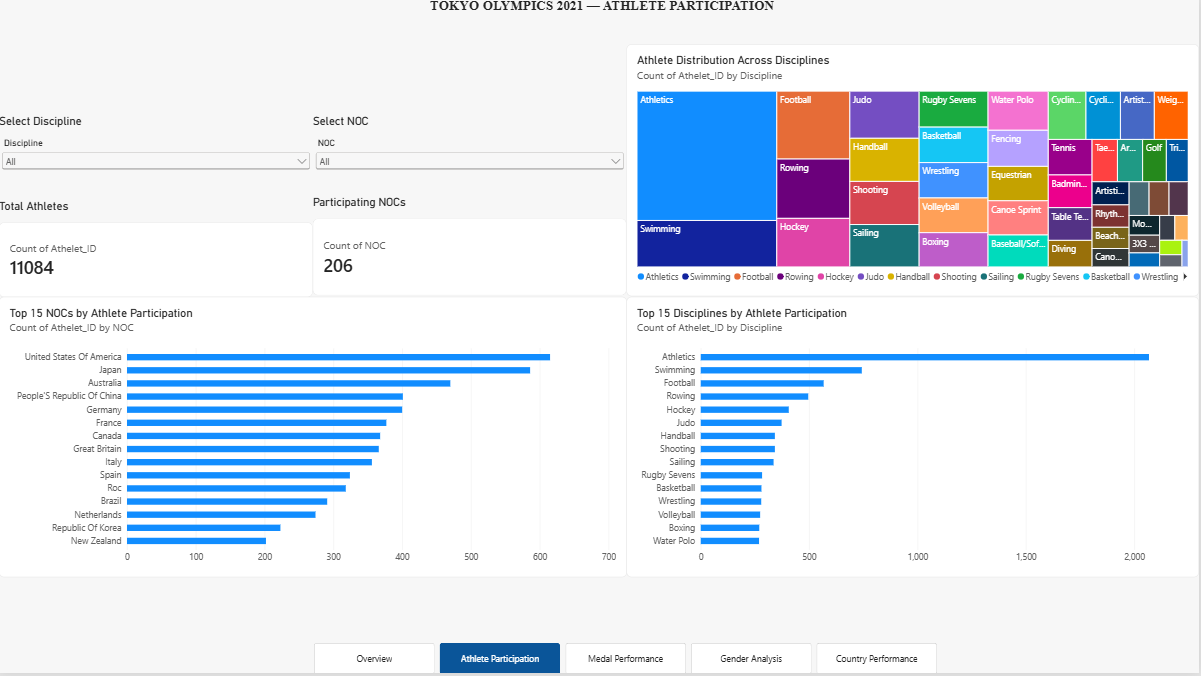

The dashboard page shown, as its layout file describes it:
{"tool":"powerbi","page":{"name":"Athlete Participation","canvas":[1920,1080],"ordinal":1},"visuals":[{"type":"textbox","box":[10.5,0,1909.9,38.4],"z":0},{"type":"cardVisual","title":"Total Athletes","fields":{"Data":["CountNonNull(athletes_cleaned.Athelet_ID)"]},"box":[0,321.1,502.3,157],"z":1},{"type":"cardVisual","title":"Participating NOCs","fields":{"Data":["Count(athletes_cleaned.NOC)"]},"box":[502.2,317,502.3,160.5],"z":2},{"type":"clusteredBarChart","title":"Top 15 NOCs by Athlete Participation","fields":{"Category":["athletes_cleaned.NOC"],"Y":["CountNonNull(athletes_cleaned.Athelet_ID)"]},"box":[0,477.5,1004.5,448.7],"z":3},{"type":"clusteredBarChart","title":"Top 15 Disciplines by Athlete Participation","fields":{"Category":["athletes_cleaned.Discipline"],"Y":["CountNonNull(athletes_cleaned.Athelet_ID)"]},"box":[1004.5,477.5,916,448.7],"z":4},{"type":"slicer","title":"Select Discipline","fields":{"Values":["athletes_cleaned.Discipline"]},"box":[0,186.6,502.3,120.3],"z":5},{"type":"treemap","title":"Athlete Distribution Across Disciplines","fields":{"Group":["athletes_cleaned.Discipline"],"Values":["CountNonNull(athletes_cleaned.Athelet_ID)"]},"box":[1004.5,74.1,916,403.4],"z":6},{"type":"slicer","title":"Select NOC","fields":{"Values":["athletes_cleaned.NOC"]},"box":[502.3,186.6,502.3,104.7],"z":7},{"type":"pageNavigator","box":[504.3,1031.2,1000,50],"z":8}]}

Visuals, with their boxes in screenshot pixels (x1, y1, x2, y2), scaled from the page's 1920x1080 canvas onto the 1201x676 screenshot:
textbox: (7, 0, 1200, 24)
"Total Athletes" cardVisual: (0, 201, 314, 299)
"Participating NOCs" cardVisual: (314, 198, 628, 299)
"Top 15 NOCs by Athlete Participation" clusteredBarChart: (0, 299, 628, 580)
"Top 15 Disciplines by Athlete Participation" clusteredBarChart: (628, 299, 1200, 580)
"Select Discipline" slicer: (0, 117, 314, 192)
"Athlete Distribution Across Disciplines" treemap: (628, 46, 1200, 299)
"Select NOC" slicer: (314, 117, 628, 182)
pageNavigator: (315, 645, 941, 675)
